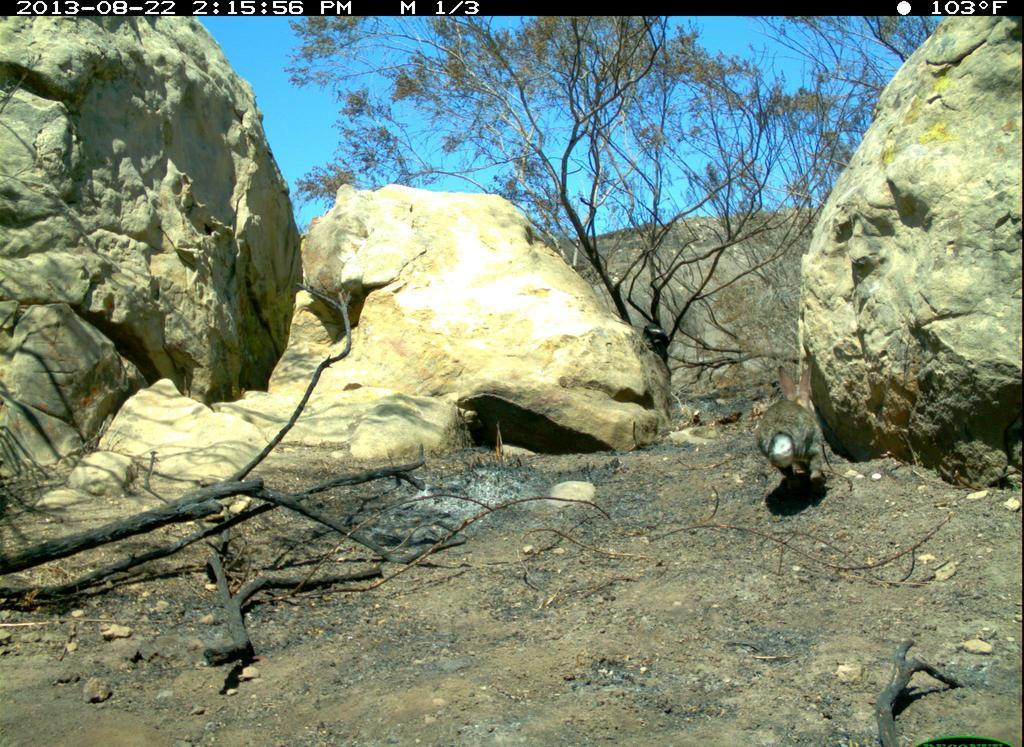rabbit: (753, 358, 838, 502)
